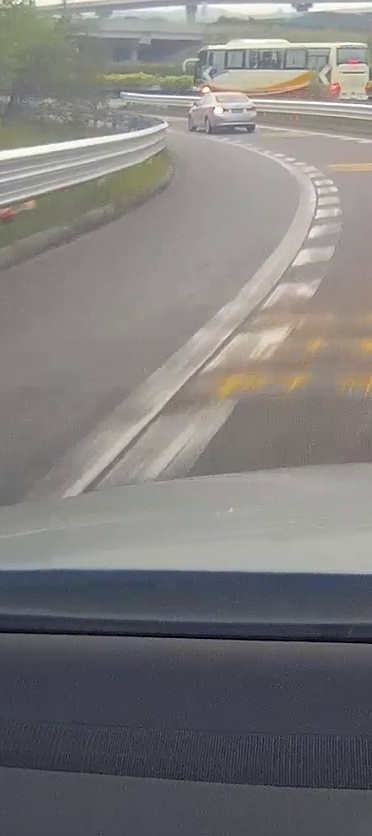L_light: (214, 107, 228, 112), (331, 84, 336, 93)
R_light: (365, 82, 371, 94), (246, 106, 256, 112)
T_light: (348, 59, 358, 64), (227, 95, 234, 96)
day-brake: (331, 42, 372, 101)
day-left: (212, 92, 257, 134)
